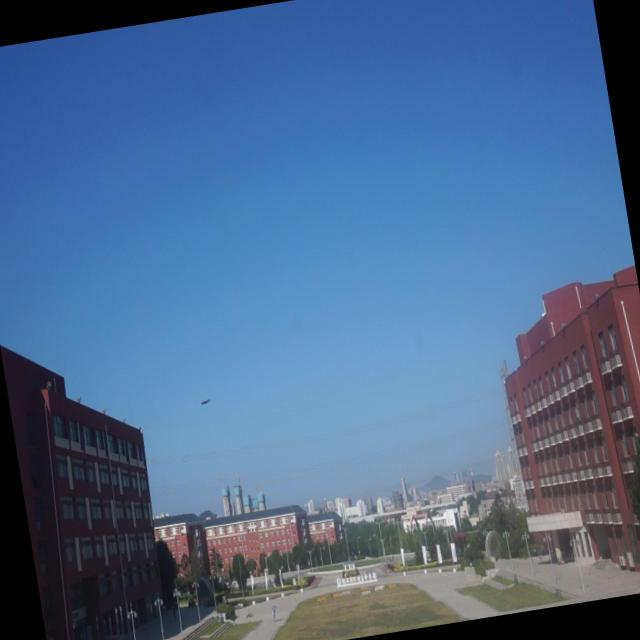drone: (199, 395, 213, 409)
